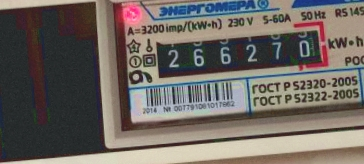0: (296, 36, 310, 58)
2: (165, 46, 180, 68), (243, 41, 257, 63)
6: (191, 46, 205, 67), (217, 44, 231, 64)
7: (268, 39, 283, 61)
screen: (144, 16, 335, 87)
